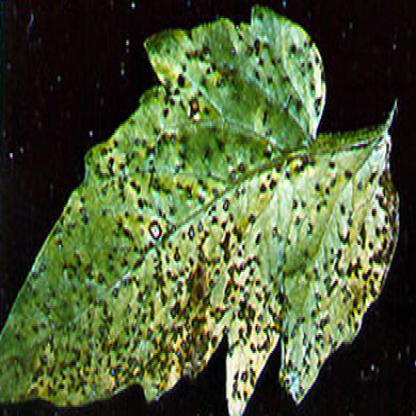tomato septoria leaf spot: (3, 11, 412, 414)
